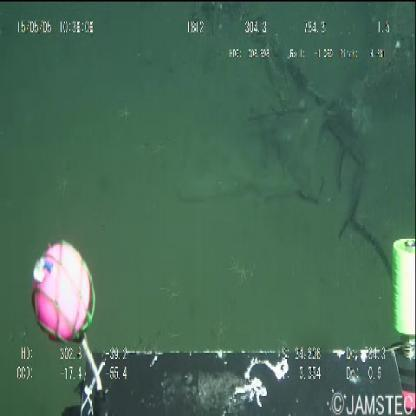Rác: (180, 111, 326, 203)
